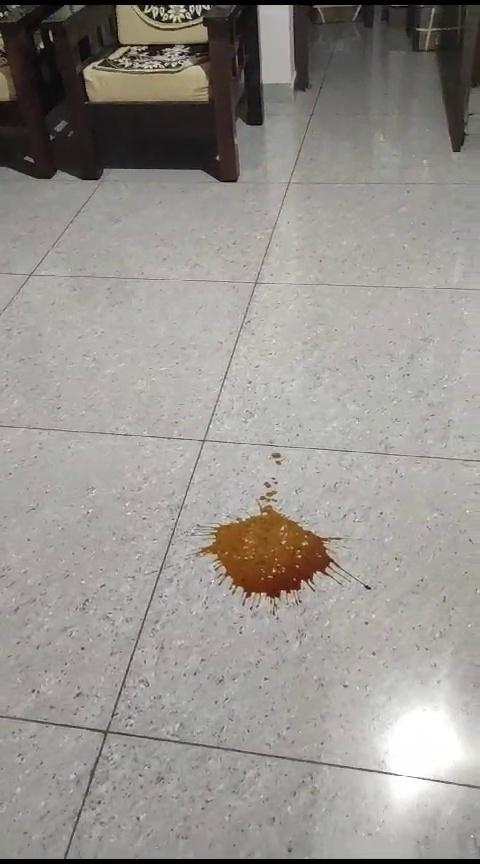dirty_floor: (191, 449, 379, 612)
